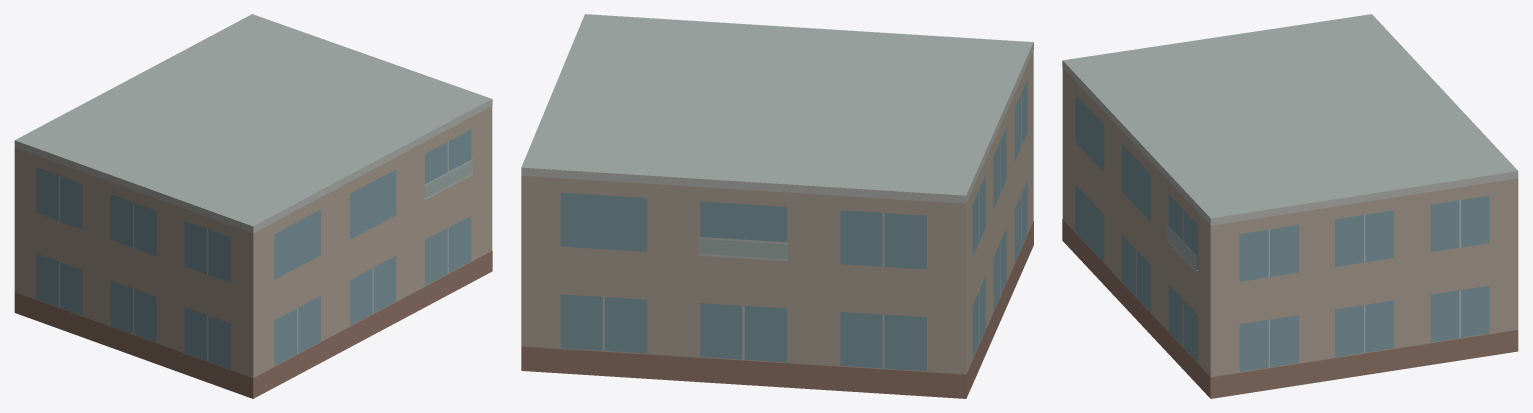
Rendered from survey-upis-32950028.glb.
3 views of the same model, side by side, from view 1: azimuth 30°, elevation 25°; view 2: azimuth 150°, elevation 25°; view 3: azimuth 270°, elevation 25° (orthographic). The views are drawn at different scales.
Visible parts, largest first — view 1: survey-upis-32950028.tmp; view 2: survey-upis-32950028.tmp; view 3: survey-upis-32950028.tmp.
Boxes of the visible parts, x1=… form: survey-upis-32950028.tmp: x1=14, y1=14, x2=492, y2=398; survey-upis-32950028.tmp: x1=521, y1=14, x2=1033, y2=398; survey-upis-32950028.tmp: x1=1062, y1=14, x2=1518, y2=398.
Bounding box in the file's own units: 14.85 × 6.1 × 13.98.
